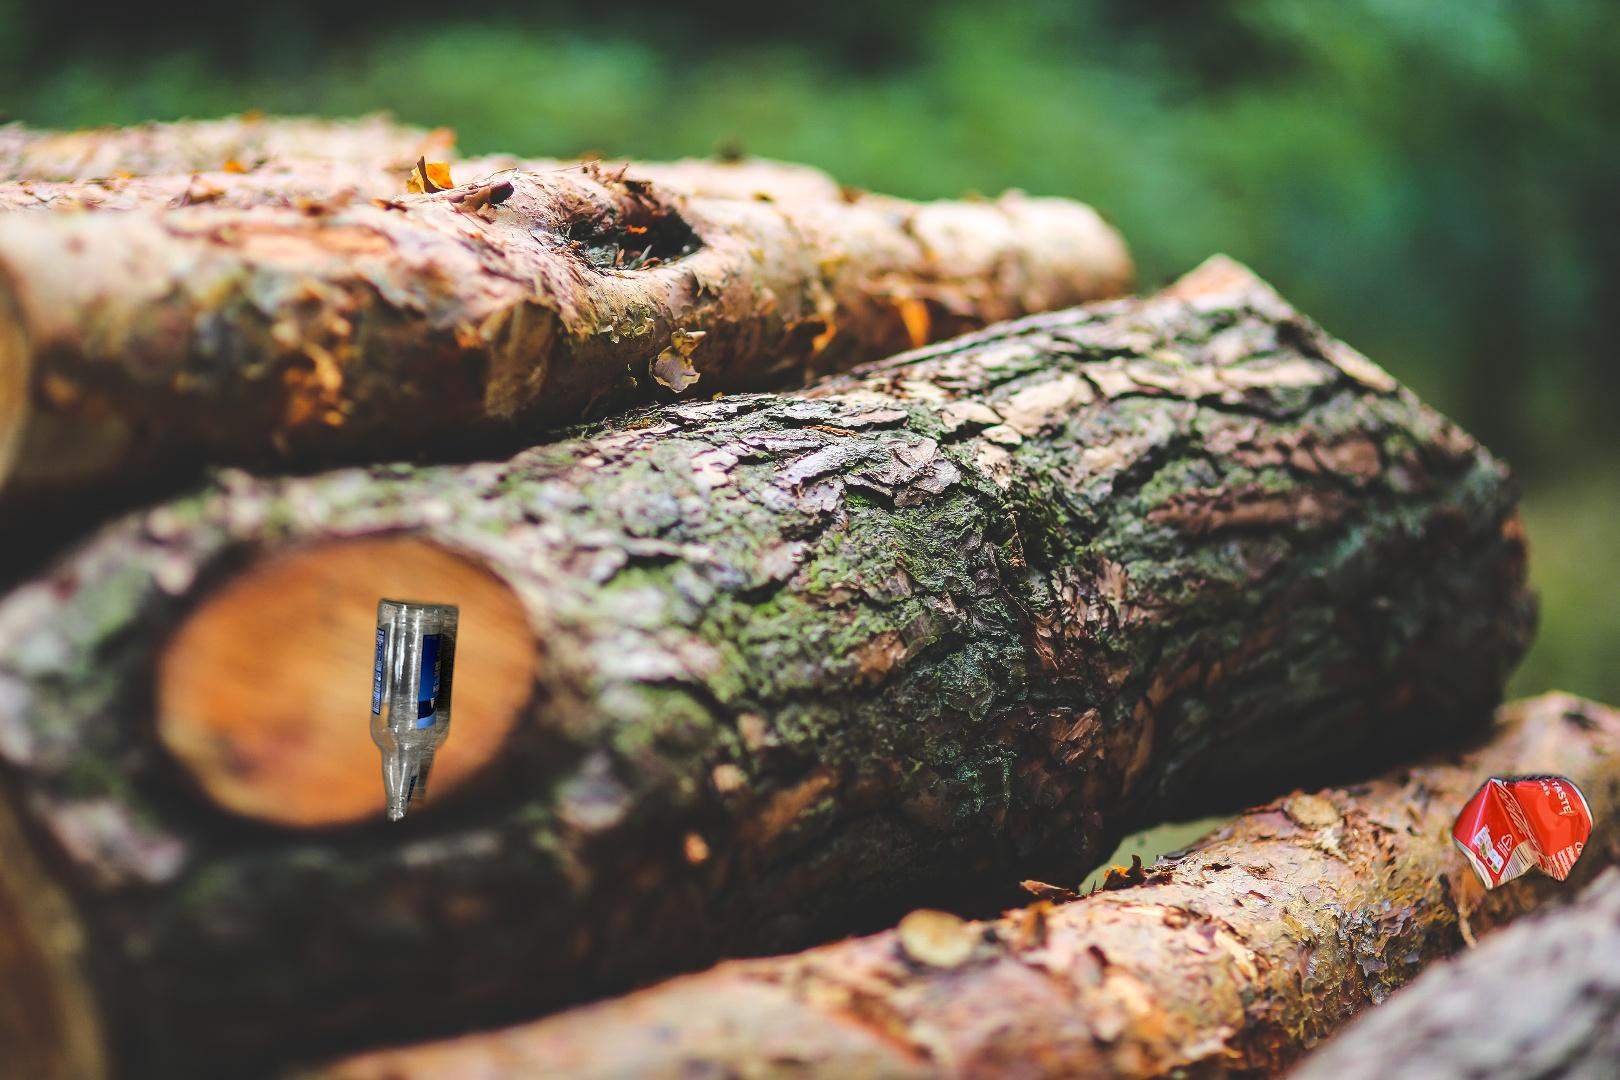glass: (366, 592, 463, 827)
metal-cans: (1448, 272, 1620, 900)
